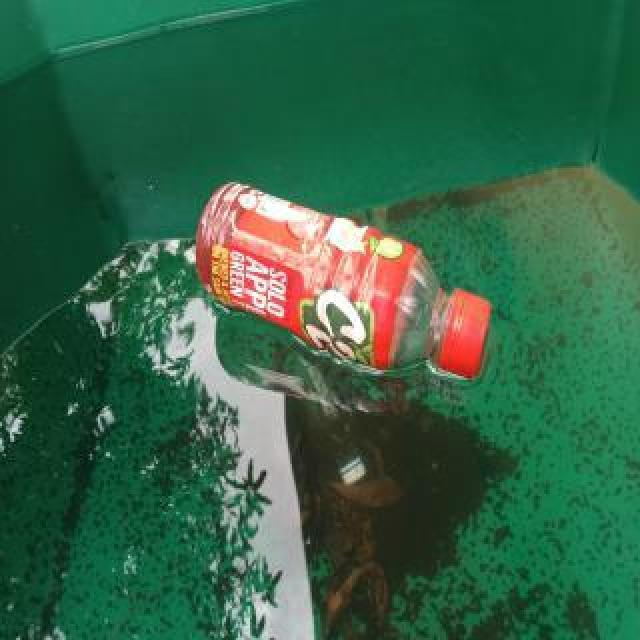bottle: (193, 180, 491, 382)
